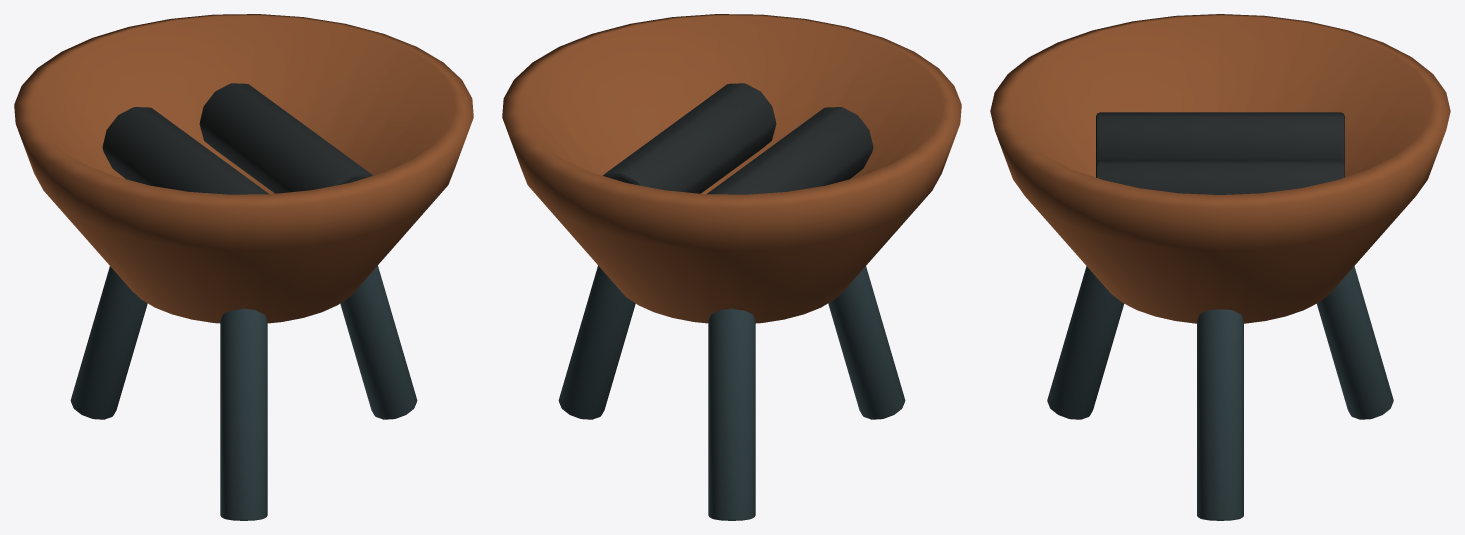
The model's file is SM_Brazier.fbx.
3 renders of one model, left to right at view 1: azimuth 30°, elevation 25°; view 2: azimuth 150°, elevation 25°; view 3: azimuth 270°, elevation 25°, orthographic.
Visible parts, largest first — view 1: SM_Brazier; view 2: SM_Brazier; view 3: SM_Brazier.
Boxes of the visible parts, x1,y1,x2,y2 form: SM_Brazier: (14,14,473,520); SM_Brazier: (502,14,961,520); SM_Brazier: (990,14,1450,520).
Size of what is drawn, in the model's own units: 0.74 by 0.74 by 0.6094.
